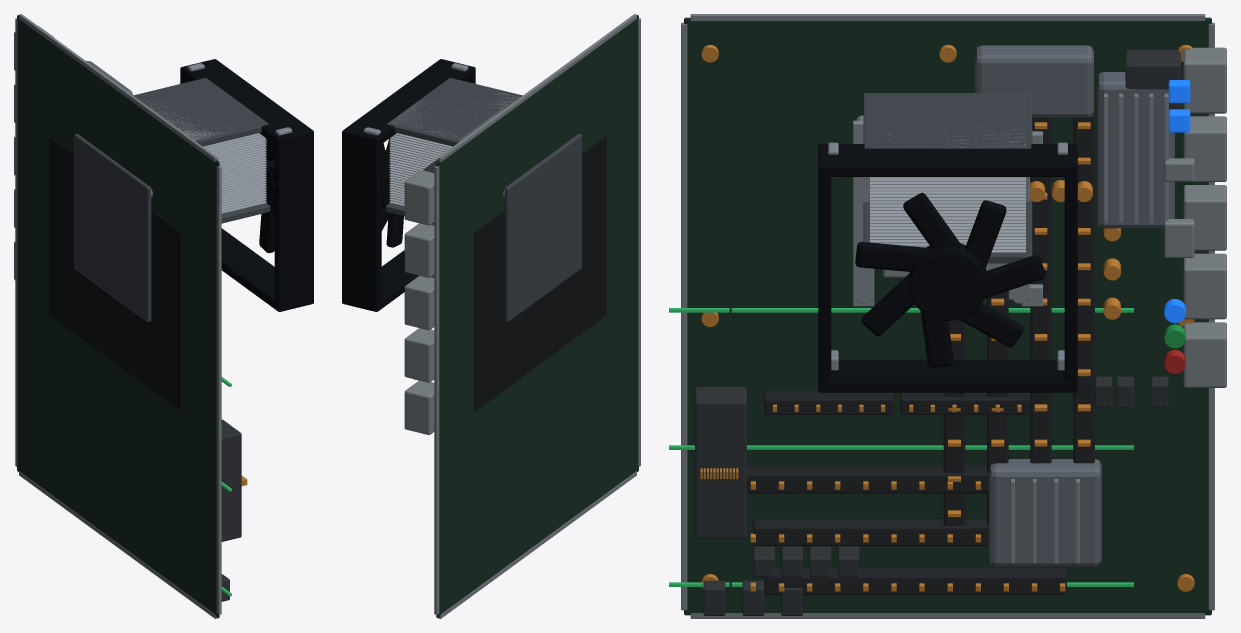
File: motherboard.glb
3 views of the same model, side by side, from view 1: azimuth 30°, elevation 25°; view 2: azimuth 150°, elevation 25°; view 3: azimuth 270°, elevation 25° (orthographic). The views are drawn at different scales.
Parts seen in each view (by area): view 1: MB_PCB, CPU_Render_Ground, COOLER_Backplate, COOLER_FanFrame_Left, COOLER_Heatsink_TopRail, COOLER_Heatsink, COOLER_FanFrame_Top, MB_PCB_Edge_Front, COOLER_FanFrame_Bottom, MB_24Pin_ATX, MB_PCB_Edge_Top, MB_PCB_Edge_Rear (+3 smaller); view 2: MB_PCB, CPU_Render_Ground, COOLER_Backplate, COOLER_FanFrame_Right, COOLER_Heatsink_TopRail, COOLER_FanFrame_Top, MB_PCB_Edge_Rear, COOLER_Heatsink, MB_RearIO_Block_01, MB_RearIO_Block_02, MB_RearIO_Block_04, MB_RearIO_Block_05 (+6 smaller); view 3: MB_PCB, MB_ChipsetHeatsink, COOLER_Heatsink_TopRail, COOLER_Heatsink, MB_VRMHeatsink_Left, COOLER_FanFrame_Bottom, MB_24Pin_ATX, COOLER_FanFrame_Top, MB_VRMHeatsink_Top, MB_PCIeSlot_03, MB_PCIeSlot_01, MB_PCIeSlot_02 (+31 smaller).
Boxes of the visible parts, x1,y1,x2,y2 form: MB_PCB: (17,15,219,617); CPU_Render_Ground: (49,136,181,411); COOLER_Backplate: (74,134,151,322); COOLER_FanFrame_Left: (274,138,313,305); COOLER_Heatsink_TopRail: (133,78,269,146); COOLER_Heatsink: (147,102,266,213); COOLER_FanFrame_Top: (180,59,313,146); MB_PCB_Edge_Front: (216,166,221,614); COOLER_FanFrame_Bottom: (221,228,313,311); MB_24Pin_ATX: (221,419,241,541); MB_PCB_Edge_Top: (19,14,217,162); MB_PCB_Edge_Rear: (15,18,17,467); MB_PCB: (436,15,638,617); CPU_Render_Ground: (474,136,606,411); COOLER_Backplate: (504,134,581,322); COOLER_FanFrame_Right: (342,138,381,305); COOLER_Heatsink_TopRail: (387,78,522,146); COOLER_FanFrame_Top: (342,59,475,146); MB_PCB_Edge_Rear: (434,166,439,614); COOLER_Heatsink: (389,93,519,206); MB_RearIO_Block_01: (404,170,434,225); MB_RearIO_Block_02: (404,223,434,277); MB_RearIO_Block_04: (404,328,434,382); MB_RearIO_Block_05: (404,380,434,434); MB_PCB: (684,17,1211,615); MB_ChipsetHeatsink: (989,459,1101,566); COOLER_Heatsink_TopRail: (863,93,1032,148); COOLER_Heatsink: (870,127,1025,252); MB_VRMHeatsink_Left: (1097,72,1174,228); COOLER_FanFrame_Bottom: (818,359,1077,392); MB_24Pin_ATX: (695,387,746,538); COOLER_FanFrame_Top: (818,144,1077,176); MB_VRMHeatsink_Top: (975,45,1093,117); MB_PCIeSlot_03: (764,568,1066,594); MB_PCIeSlot_01: (747,466,988,493); MB_PCIeSlot_02: (753,519,988,545).
Size of the model in its own units: 0.1155 by 0.308 by 0.258.
